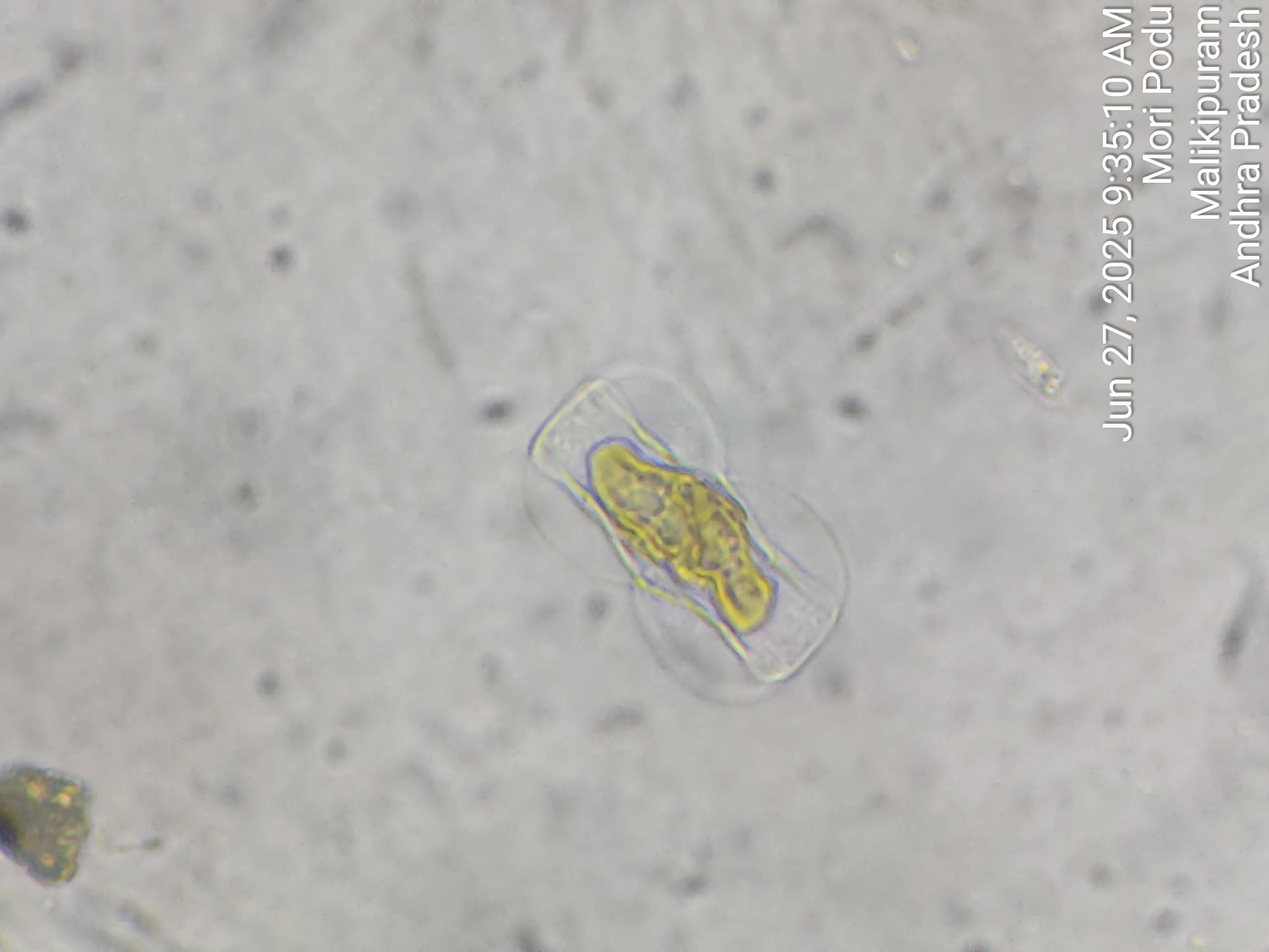Euglena: (238, 498, 607, 873)
